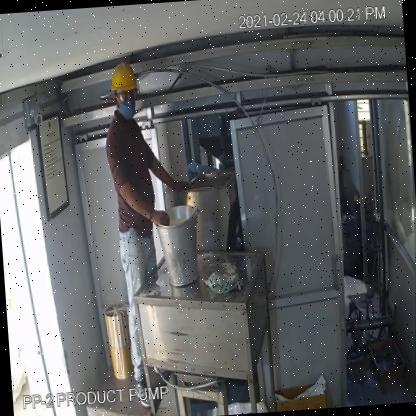capacete: (108, 51, 140, 100)
oculos: (114, 90, 140, 104)
